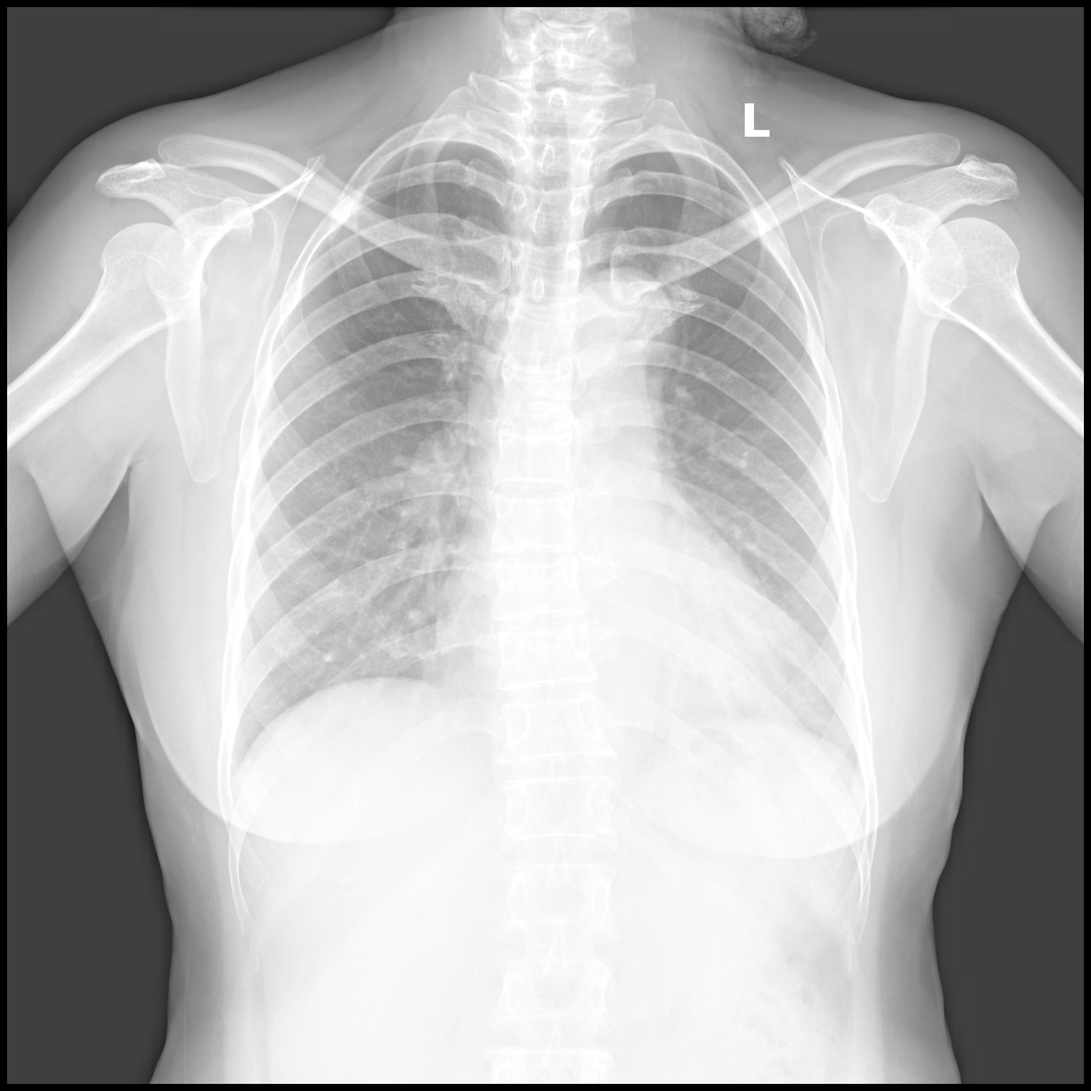Aortic enlargement: (563, 269, 674, 381)
Cardiomegaly: (428, 587, 818, 731)
